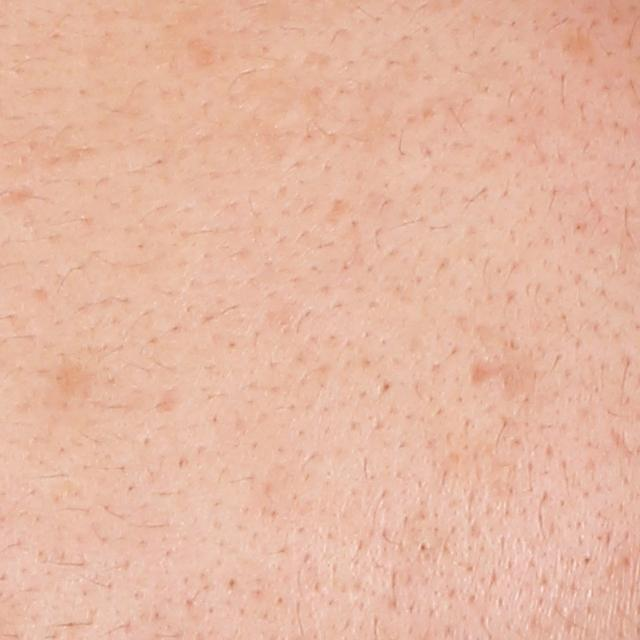atrophic_scar: (464, 321, 541, 403), (146, 379, 182, 420), (610, 425, 636, 458)
comedo: (415, 535, 434, 555)
